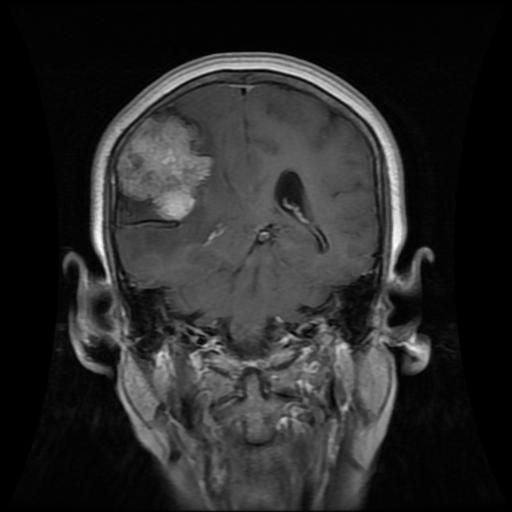Menigiomia_tumour: (115, 113, 212, 220)
